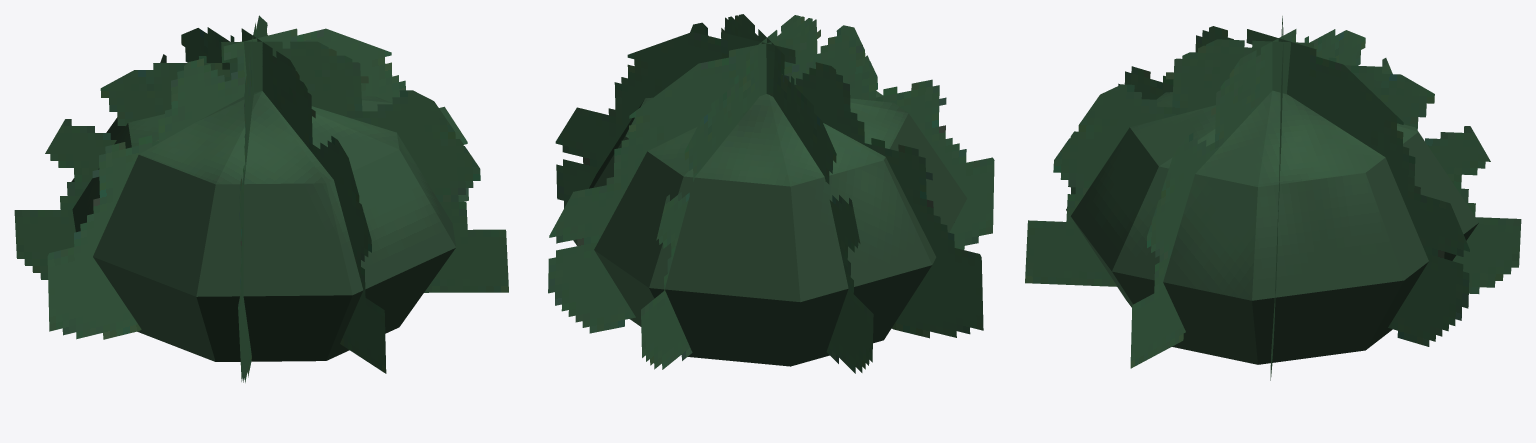
File: bush.gltf
The picture shows the model from 3 angles, left to right: view 1: azimuth 30°, elevation 25°; view 2: azimuth 150°, elevation 25°; view 3: azimuth 270°, elevation 25°; orthographic projection.
Parts seen in each view (by area): view 1: sphere; view 2: sphere; view 3: sphere.
Part boxes in pixels (x1,y1,x2,y2): sphere: (14,15,508,382); sphere: (548,14,994,373); sphere: (1025,16,1521,380).
Size of the model in its own units: 1 by 0.6772 by 1.01.
Materials: 2 (2 with a texture image).
